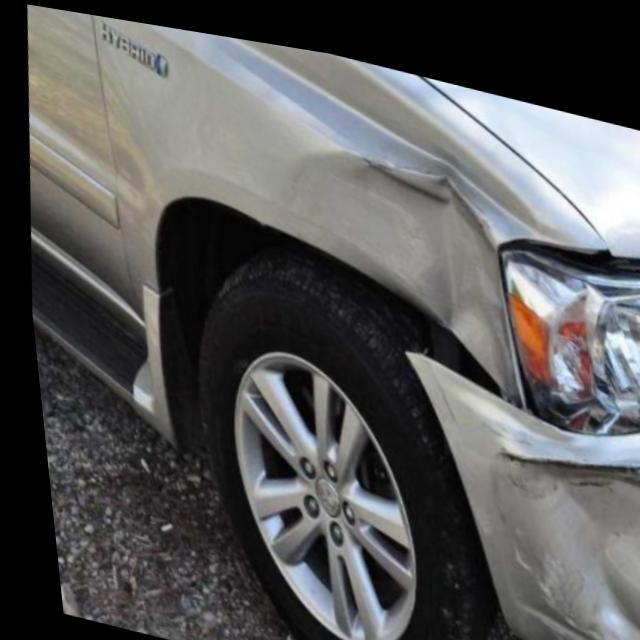dent: (331, 135, 514, 387), (489, 427, 640, 640)
lamp broken: (505, 219, 640, 422)
